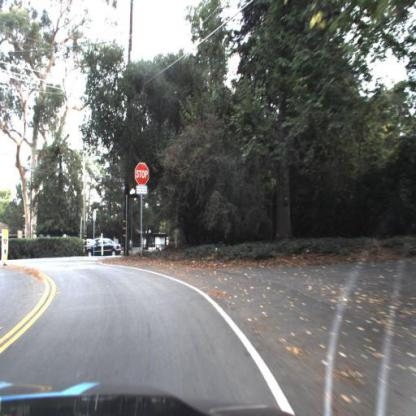car: (85, 237, 123, 260)
